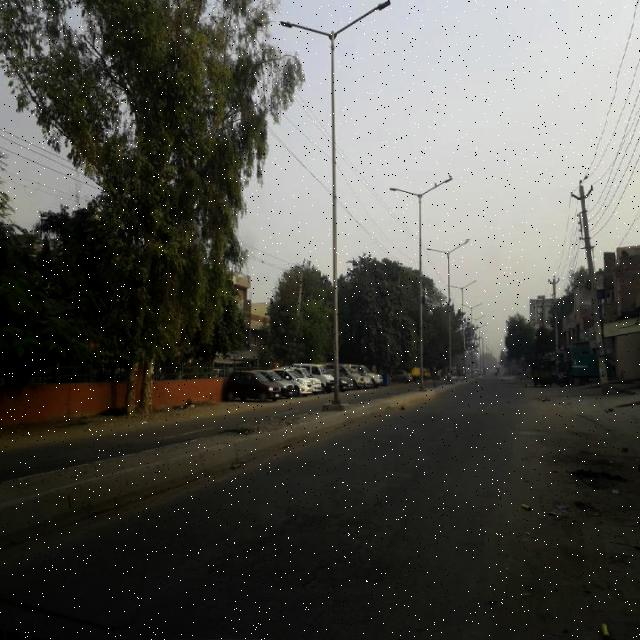D40: (220, 499, 397, 582)
